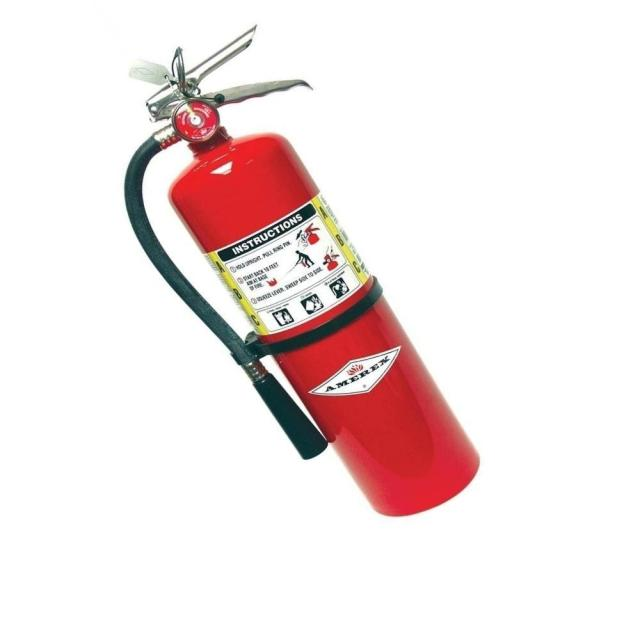fire_extinguisher: (115, 22, 492, 523)
